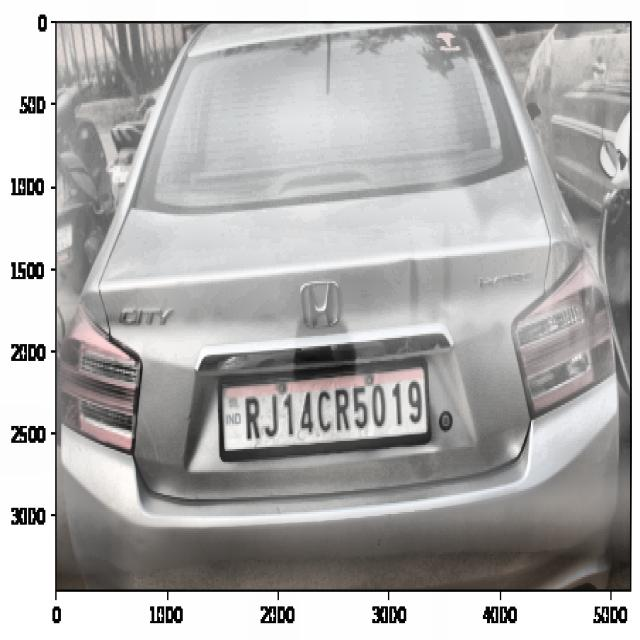license_plate: (237, 374, 428, 454)
